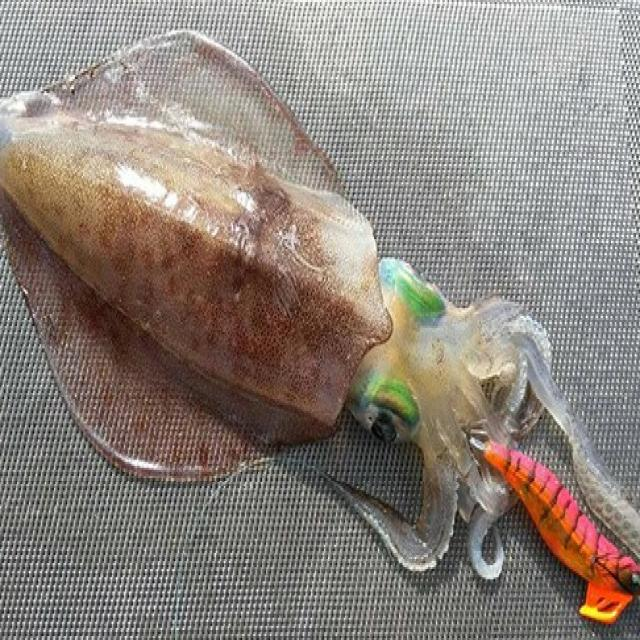SQUID: (0, 0, 565, 569)
